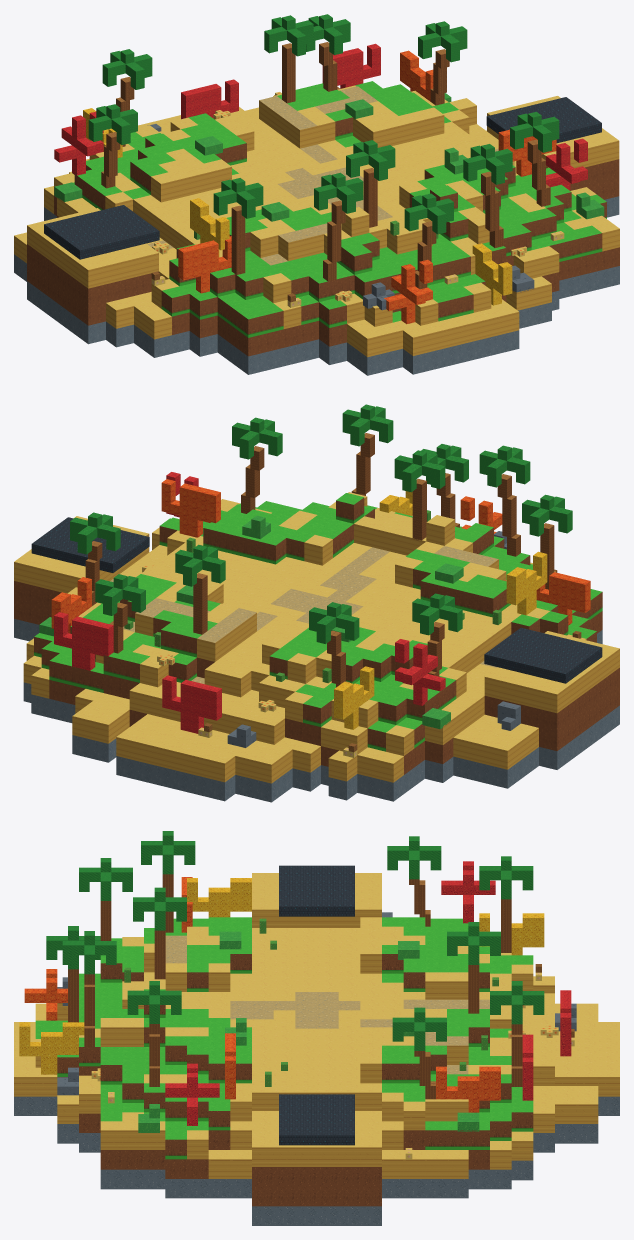
The model's file is Coral_Coast_Island_PalmTrees.glb.
3 views of the same model, one above another, from view 1: azimuth 30°, elevation 25°; view 2: azimuth 150°, elevation 25°; view 3: azimuth 270°, elevation 25° (orthographic). The views are drawn at different scales.
Parts seen in each view (by area): view 1: IslandGround, PalmTrees_Leaves, CoralFormations, PalmTrees_Trunks, PortalPlacement_Left, BushesAndPlants, PortalPlacement_Right, BeachDecorations, Rocks; view 2: IslandGround, CoralFormations, PalmTrees_Leaves, PalmTrees_Trunks, PortalPlacement_Left, PortalPlacement_Right, BushesAndPlants, Rocks, BeachDecorations, Flowers; view 3: IslandGround, PalmTrees_Leaves, CoralFormations, PalmTrees_Trunks, PortalPlacement_Left, PortalPlacement_Right, BushesAndPlants, Rocks, BeachDecorations, Flowers.
Boxes of the visible parts, x1,y1,x2,y2 form: IslandGround: (14,81,619,375); PalmTrees_Leaves: (88,14,559,234); CoralFormations: (54,43,587,324); PalmTrees_Trunks: (101,42,550,289); PortalPlacement_Left: (44,205,159,259); BushesAndPlants: (54,93,604,221); PortalPlacement_Right: (486,97,601,143); BeachDecorations: (151,92,564,307); Rocks: (147,124,534,310); IslandGround: (14,492,619,802); CoralFormations: (51,472,590,733); PalmTrees_Leaves: (70,404,572,643); PalmTrees_Trunks: (85,433,554,687); PortalPlacement_Left: (484,627,602,683); PortalPlacement_Right: (31,517,149,572); BushesAndPlants: (39,515,463,729); Rocks: (227,531,520,747); BeachDecorations: (142,564,581,757); Flowers: (124,510,501,683); IslandGround: (14,873,619,1225); PalmTrees_Leaves: (46,831,544,1050); CoralFormations: (19,861,571,1125); PalmTrees_Trunks: (68,874,522,1099); PortalPlacement_Left: (279,865,354,916); PortalPlacement_Right: (279,1094,354,1145); BushesAndPlants: (138,931,479,1132); Rocks: (57,912,576,1095); BeachDecorations: (91,964,574,1159); Flowers: (124,918,498,1086).
Bounding box in the file's own units: 240 × 75.5 × 224.
Materials: 1 (1 with a texture image).
